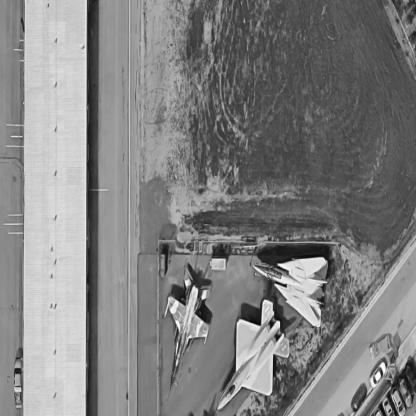F14: (253, 258, 329, 330)
F18: (165, 271, 211, 391)
YF23: (217, 300, 291, 411)
